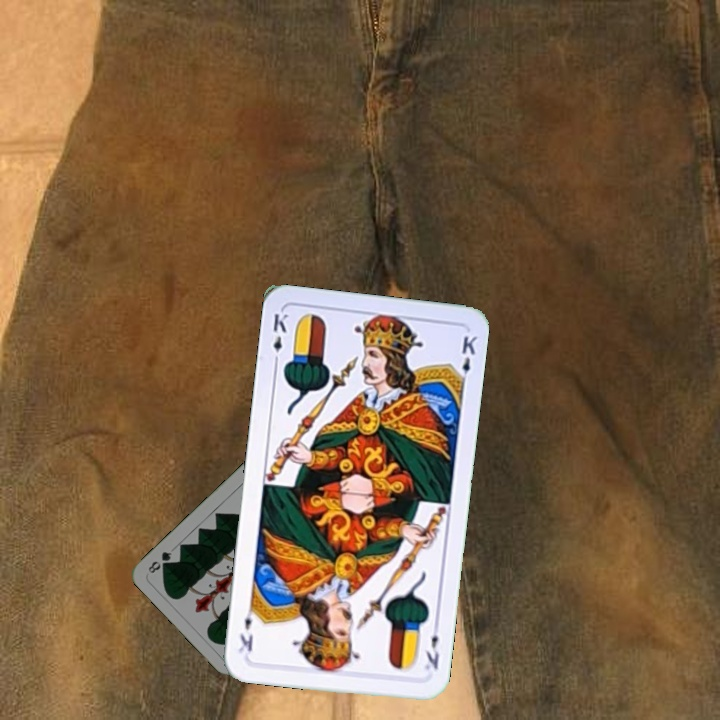EK: (269, 309, 290, 368), (420, 618, 442, 673)
